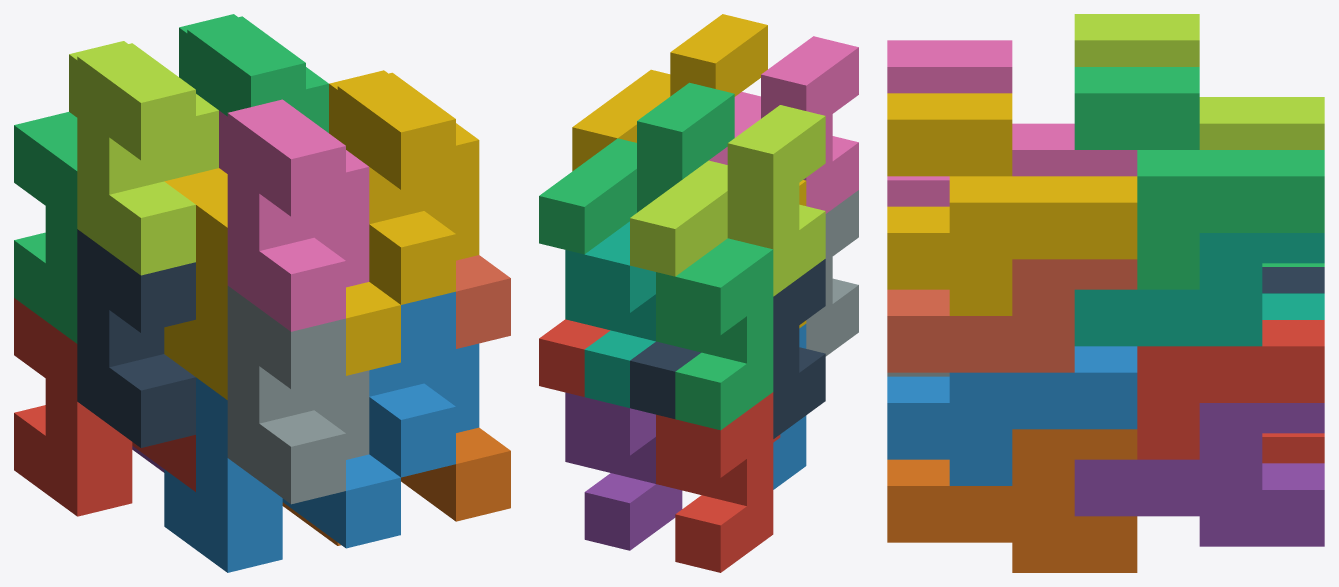
The model's file is tiling.obj.
3 renders of one model, left to right at view 1: azimuth 30°, elevation 25°; view 2: azimuth 150°, elevation 25°; view 3: azimuth 270°, elevation 25°, orthographic. The views are drawn at different scales.
Visible parts, largest first — view 1: copy_2_domain_4, copy_2_domain_3, copy_2_domain_8, copy_2_domain_2, copy_2_domain_1, copy_1_domain_2, copy_1_domain_1, copy_2_domain_6, copy_1_domain_4, copy_1_domain_3, copy_2_domain_7, copy_1_domain_6 (+1 smaller); view 2: copy_2_domain_3, copy_1_domain_3, copy_2_domain_7, copy_1_domain_1, copy_1_domain_5, copy_1_domain_7, copy_2_domain_8, copy_2_domain_4, copy_2_domain_1, copy_2_domain_2, copy_2_domain_5, copy_1_domain_2; view 3: copy_2_domain_8, copy_2_domain_7, copy_1_domain_5, copy_1_domain_6, copy_2_domain_6, copy_1_domain_7, copy_1_domain_8, copy_2_domain_5, copy_2_domain_4, copy_2_domain_3, copy_1_domain_1, copy_2_domain_1.
Part boxes in pixels (<box>): copy_2_domain_4: <box>219,99,369,331</box>; copy_2_domain_3: <box>69,41,218,275</box>; copy_2_domain_8: <box>329,70,479,304</box>; copy_2_domain_2: <box>227,286,369,504</box>; copy_2_domain_1: <box>77,229,195,447</box>; copy_1_domain_2: <box>164,377,400,572</box>; copy_1_domain_1: <box>14,298,195,516</box>; copy_2_domain_6: <box>369,291,479,477</box>; copy_1_domain_4: <box>164,168,400,399</box>; copy_1_domain_3: <box>14,112,77,343</box>; copy_2_domain_7: <box>179,14,328,132</box>; copy_1_domain_6: <box>282,427,510,545</box>; copy_2_domain_3: <box>630,105,825,296</box>; copy_1_domain_3: <box>656,238,773,430</box>; copy_2_domain_7: <box>539,82,734,254</box>; copy_1_domain_1: <box>656,392,780,572</box>; copy_1_domain_5: <box>565,392,682,550</box>; copy_1_domain_7: <box>565,221,655,407</box>; copy_2_domain_8: <box>572,14,767,171</box>; copy_2_domain_4: <box>709,36,858,213</box>; copy_2_domain_1: <box>630,259,825,438</box>; copy_2_domain_2: <box>806,190,858,356</box>; copy_2_domain_5: <box>539,319,610,396</box>; copy_1_domain_2: <box>773,324,806,489</box>; copy_2_domain_8: <box>887,93,1137,315</box>; copy_2_domain_7: <box>1074,67,1324,289</box>; copy_1_domain_5: <box>1074,403,1324,546</box>; copy_1_domain_6: <box>887,429,1137,572</box>; copy_2_domain_6: <box>887,346,1137,485</box>; copy_1_domain_7: <box>1074,233,1324,346</box>; copy_1_domain_8: <box>887,259,1137,372</box>; copy_2_domain_5: <box>1137,320,1324,459</box>; copy_2_domain_4: <box>887,40,1137,206</box>; copy_2_domain_3: <box>1074,14,1324,149</box>; copy_1_domain_1: <box>1262,433,1324,463</box>; copy_2_domain_1: <box>1262,267,1324,293</box>.
Size of the model in its own units: 5 by 8 by 7.
